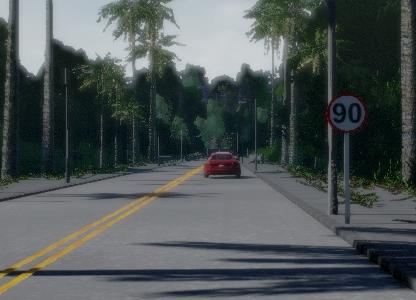Speed_90: (323, 91, 369, 136)
